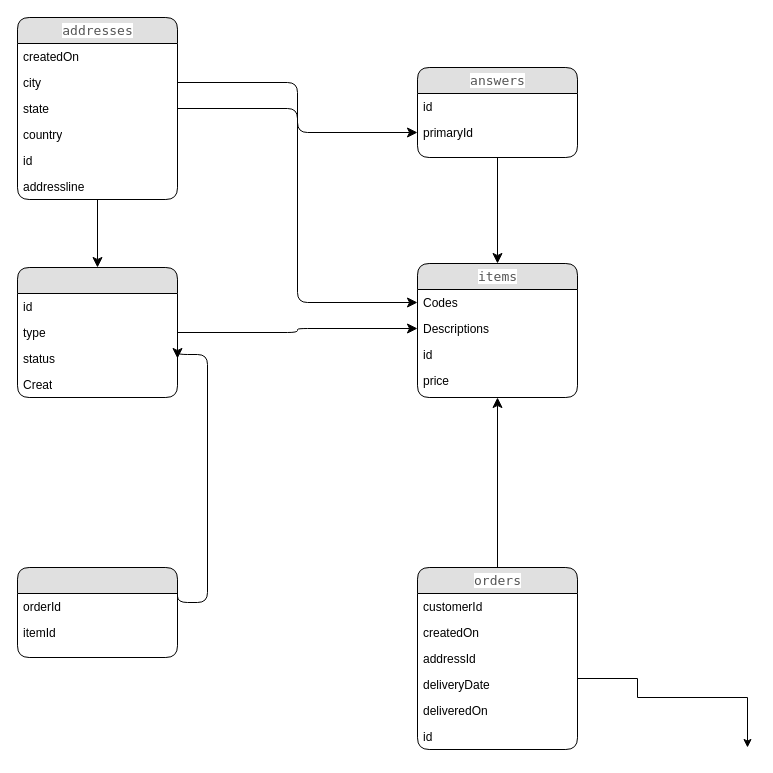
Some shapes in this 773 by 773 pixel diagram are drawn without their labels. The shapes that lost their labels are listed below. From the top down, each one's box as (x1, y1, x2, y2) in pixels, then its label:
(16, 266, 178, 398): customers
(16, 566, 178, 658): orderDetails
